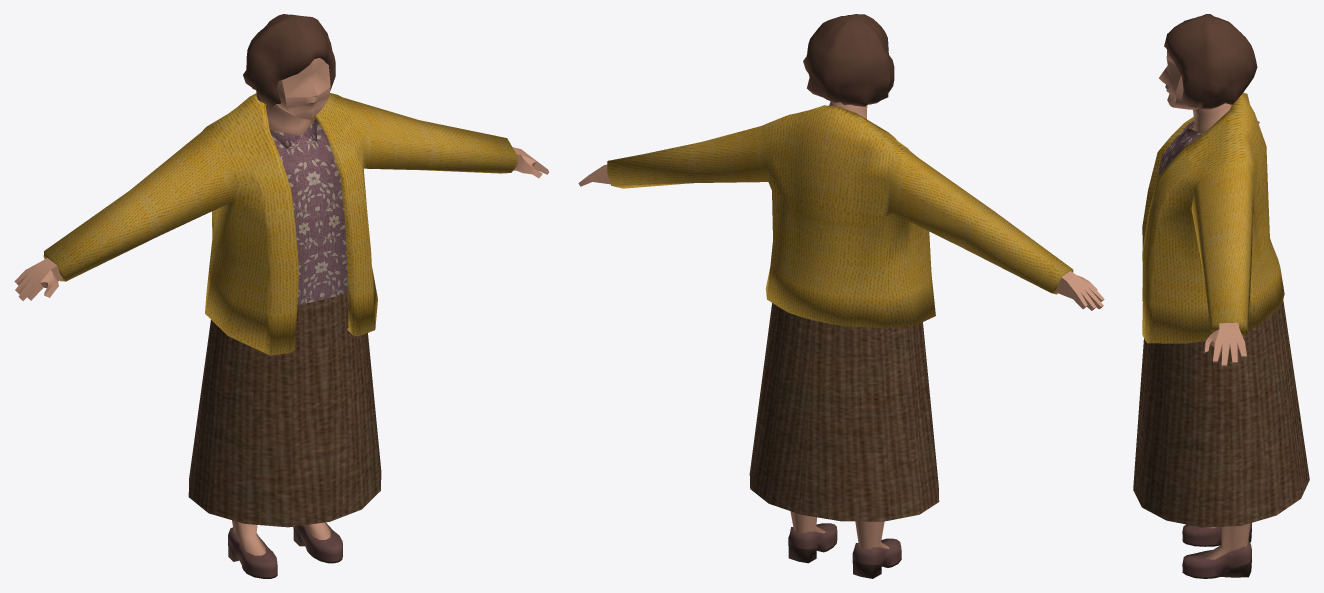
Rendered from shelter_manager_Tpose.fbx.
3 renders of one model, left to right at view 1: azimuth 30°, elevation 25°; view 2: azimuth 150°, elevation 25°; view 3: azimuth 270°, elevation 25°, orthographic.
Parts seen in each view (by area): view 1: Cube.001, Cylinder.001, Sphere, Cube, Plane, hand, Cylinder, Cylinder.002; view 2: Cube.001, Cylinder.001, Sphere, Cube, hand, Cylinder; view 3: Cylinder.001, Cube.001, Sphere, Cube, hand, Cylinder, Plane, Cylinder.002.
Boxes of the visible parts, bbox=[...] form: Cube.001: bbox=[43, 93, 517, 355]; Cylinder.001: bbox=[188, 293, 381, 527]; Sphere: bbox=[243, 14, 335, 106]; Cube: bbox=[228, 522, 342, 578]; Plane: bbox=[276, 58, 330, 119]; hand: bbox=[14, 147, 549, 300]; Cylinder: bbox=[232, 520, 330, 555]; Cylinder.002: bbox=[265, 104, 312, 135]; Cube.001: bbox=[607, 105, 1073, 328]; Cylinder.001: bbox=[749, 303, 939, 521]; Sphere: bbox=[803, 14, 894, 106]; Cube: bbox=[788, 523, 901, 578]; hand: bbox=[578, 164, 1104, 310]; Cylinder: bbox=[790, 511, 889, 548]; Cylinder.001: bbox=[1133, 300, 1309, 527]; Cube.001: bbox=[1142, 92, 1284, 343]; Sphere: bbox=[1164, 14, 1257, 109]; Cube: bbox=[1182, 523, 1251, 578]; hand: bbox=[1203, 322, 1247, 367]; Cylinder: bbox=[1204, 523, 1250, 559]; Plane: bbox=[1159, 50, 1199, 109]; Cylinder.002: bbox=[1192, 103, 1259, 133].
Size of the model in its own units: 277 by 273 by 81.25.
10 materials, 3 textured.
